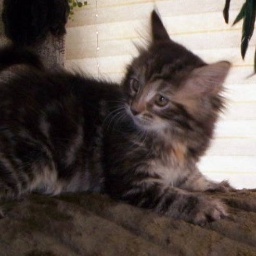cat: (4, 7, 243, 222)
